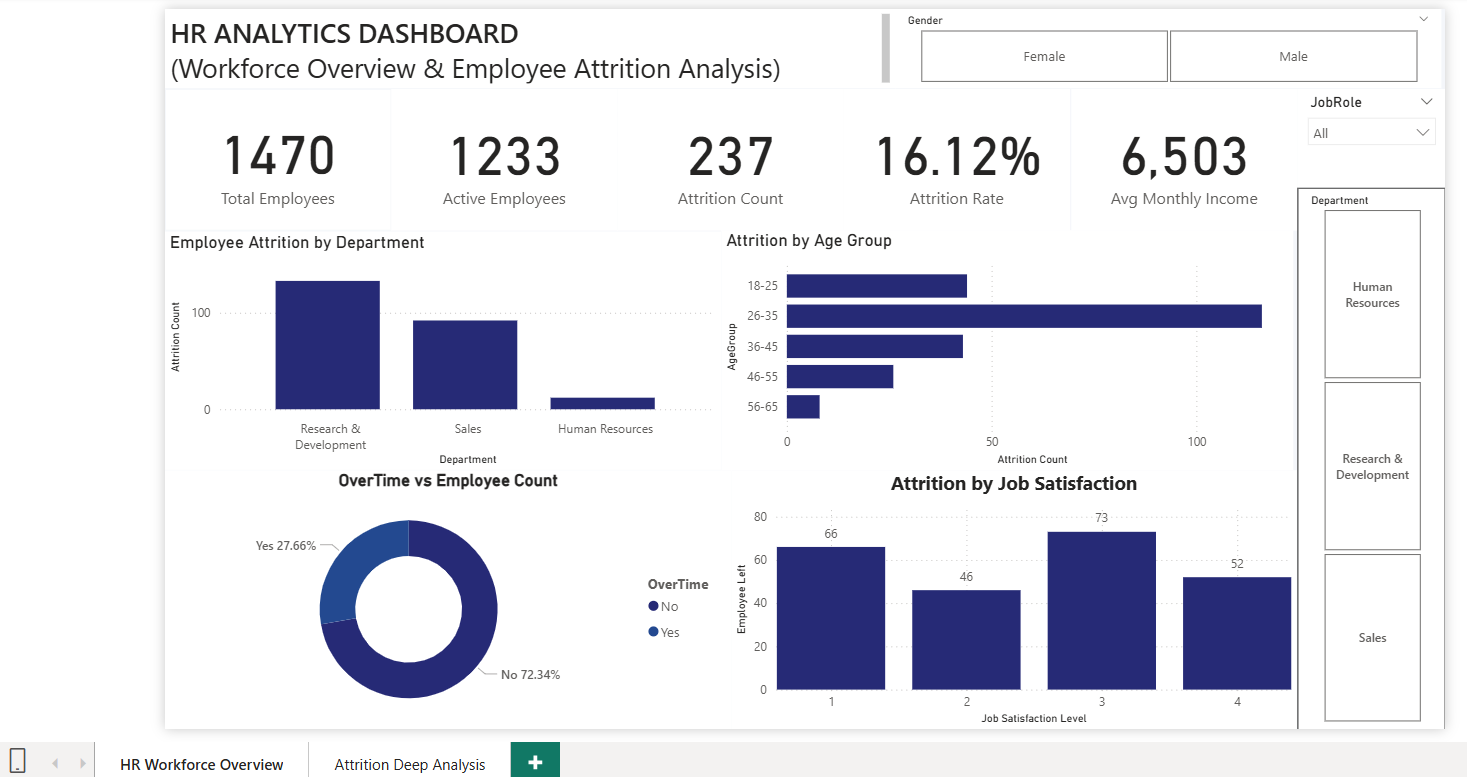

The page's visual inventory and layout, read from the dashboard file:
{"tool":"powerbi","page":{"name":"HR Workforce Overview","canvas":[1280,720],"ordinal":0},"visuals":[{"type":"textbox","box":[0,0,730,79.6],"z":0},{"type":"card","fields":{"Values":["HR_Analytics csv csv HR_Analytics_Cleaned.Total Employees"]},"box":[0,79.6,226.4,141.3],"z":1000},{"type":"card","fields":{"Values":["HR_Analytics csv csv HR_Analytics_Cleaned.Active Employees"]},"box":[226.4,79.6,226.4,141.3],"z":2000},{"type":"card","fields":{"Values":["HR_Analytics csv csv HR_Analytics_Cleaned.Attrition Count"]},"box":[452.8,79.6,226.4,141.3],"z":3000},{"type":"card","fields":{"Values":["HR_Analytics csv csv HR_Analytics_Cleaned.Attrition Rate"]},"box":[679.2,79.6,226.4,141.3],"z":4000},{"type":"card","fields":{"Values":["HR_Analytics csv csv HR_Analytics_Cleaned.Avg Monthly Income"]},"box":[905.7,79.6,226.4,141.3],"z":5000},{"type":"clusteredColumnChart","title":"Employee Attrition by Department","fields":{"Category":["HR_Analytics csv csv HR_Analytics_Cleaned.Department"],"Y":["HR_Analytics csv csv HR_Analytics_Cleaned.Attrition Count"]},"box":[0,222.3,555.7,238.8],"z":6000},{"type":"clusteredBarChart","title":"Attrition  by Age Group","fields":{"Category":["HR_Analytics csv csv HR_Analytics_Cleaned.AgeGroup"],"Y":["HR_Analytics csv csv HR_Analytics_Cleaned.Attrition Count"]},"box":[555.7,220.9,572.2,240.1],"z":7000},{"type":"donutChart","title":" OverTime vs Employee Count","fields":{"Category":["HR_Analytics csv csv HR_Analytics_Cleaned.OverTime"],"Y":["Sum(HR_Analytics csv csv HR_Analytics_Cleaned.EmployeeNumber)"]},"box":[0,461.1,566.7,259.3],"z":8000},{"type":"clusteredColumnChart","title":"Attrition by Job Satisfaction","fields":{"Category":["HR_Analytics csv csv HR_Analytics_Cleaned.JobSatisfaction"],"Y":["HR_Analytics csv csv HR_Analytics_Cleaned.Attrition Count"]},"box":[566.7,461.1,565.4,259.3],"z":9000},{"type":"slicer","fields":{"Values":["HR_Analytics csv csv HR_Analytics_Cleaned.Department"]},"box":[1132.1,178.4,148.2,542],"z":10000},{"type":"slicer","fields":{"Values":["HR_Analytics csv csv HR_Analytics_Cleaned.Gender"]},"box":[730,0,546.1,79.6],"z":11000},{"type":"slicer","fields":{"Values":["HR_Analytics csv csv HR_Analytics_Cleaned.JobRole"]},"box":[1132.1,79.6,148.2,98.8],"z":12000}]}

Visuals, with their boxes on the page's 1280x720 design canvas (x1, y1, x2, y2). These are canvas units, not pixel positions in the 1467x777 screenshot, which may show the page scaled, cropped or inside an application window:
textbox: l=0, t=0, r=730, b=80
card - HR_Analytics csv csv HR_Analytics_Cleaned.Total Employees: l=0, t=80, r=226, b=221
card - HR_Analytics csv csv HR_Analytics_Cleaned.Active Employees: l=226, t=80, r=453, b=221
card - HR_Analytics csv csv HR_Analytics_Cleaned.Attrition Count: l=453, t=80, r=679, b=221
card - HR_Analytics csv csv HR_Analytics_Cleaned.Attrition Rate: l=679, t=80, r=906, b=221
card - HR_Analytics csv csv HR_Analytics_Cleaned.Avg Monthly Income: l=906, t=80, r=1132, b=221
"Employee Attrition by Department" clusteredColumnChart: l=0, t=222, r=556, b=461
"Attrition  by Age Group" clusteredBarChart: l=556, t=221, r=1128, b=461
" OverTime vs Employee Count" donutChart: l=0, t=461, r=567, b=720
"Attrition by Job Satisfaction" clusteredColumnChart: l=567, t=461, r=1132, b=720
slicer - HR_Analytics csv csv HR_Analytics_Cleaned.Department: l=1132, t=178, r=1280, b=720
slicer - HR_Analytics csv csv HR_Analytics_Cleaned.Gender: l=730, t=0, r=1276, b=80
slicer - HR_Analytics csv csv HR_Analytics_Cleaned.JobRole: l=1132, t=80, r=1280, b=178
